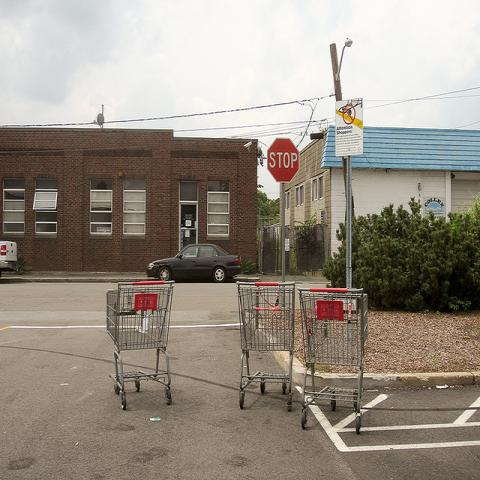car: (146, 242, 241, 282), (0, 239, 19, 279)
truck: (0, 239, 17, 278)
